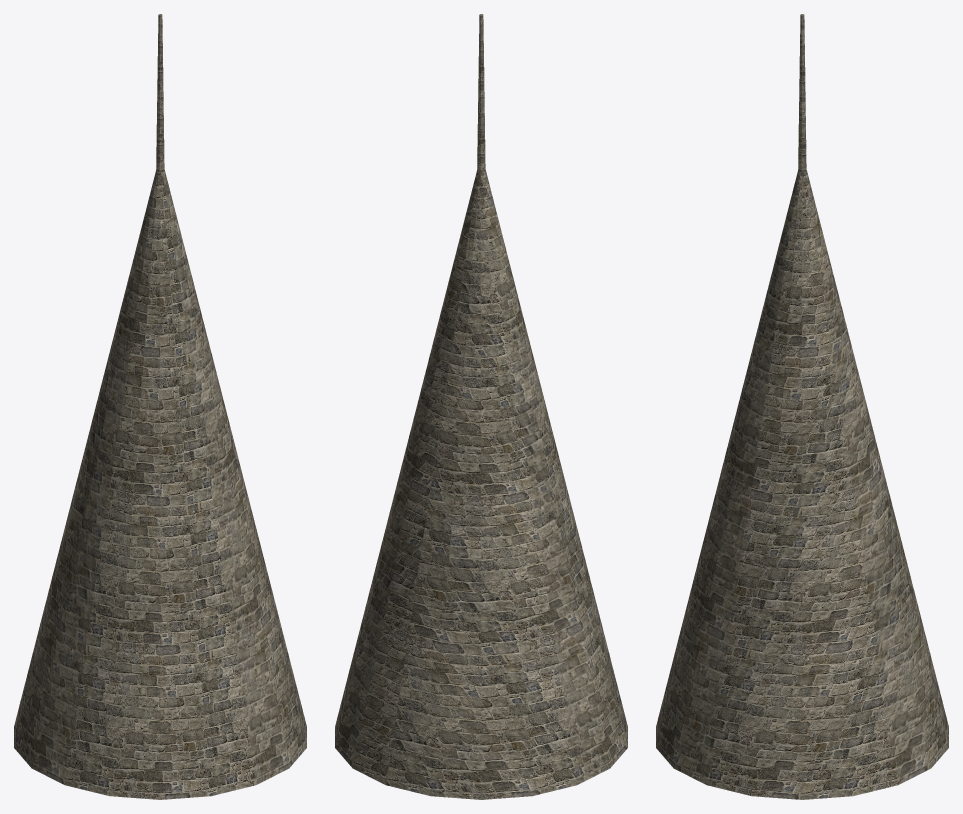
File: SM_Plains_CastleTower_02.FBX
The picture shows the model from 3 angles, left to right: view 1: azimuth 30°, elevation 25°; view 2: azimuth 150°, elevation 25°; view 3: azimuth 270°, elevation 25°; orthographic projection.
Visible parts, largest first — view 1: SM_Plains_CastleTower_02; view 2: SM_Plains_CastleTower_02; view 3: SM_Plains_CastleTower_02.
Boxes of the visible parts, x1,y1,x2,y2 form: SM_Plains_CastleTower_02: [14, 14, 306, 799]; SM_Plains_CastleTower_02: [335, 14, 627, 799]; SM_Plains_CastleTower_02: [656, 14, 948, 799].
Bounding box in the file's own units: 251 × 674 × 247.
